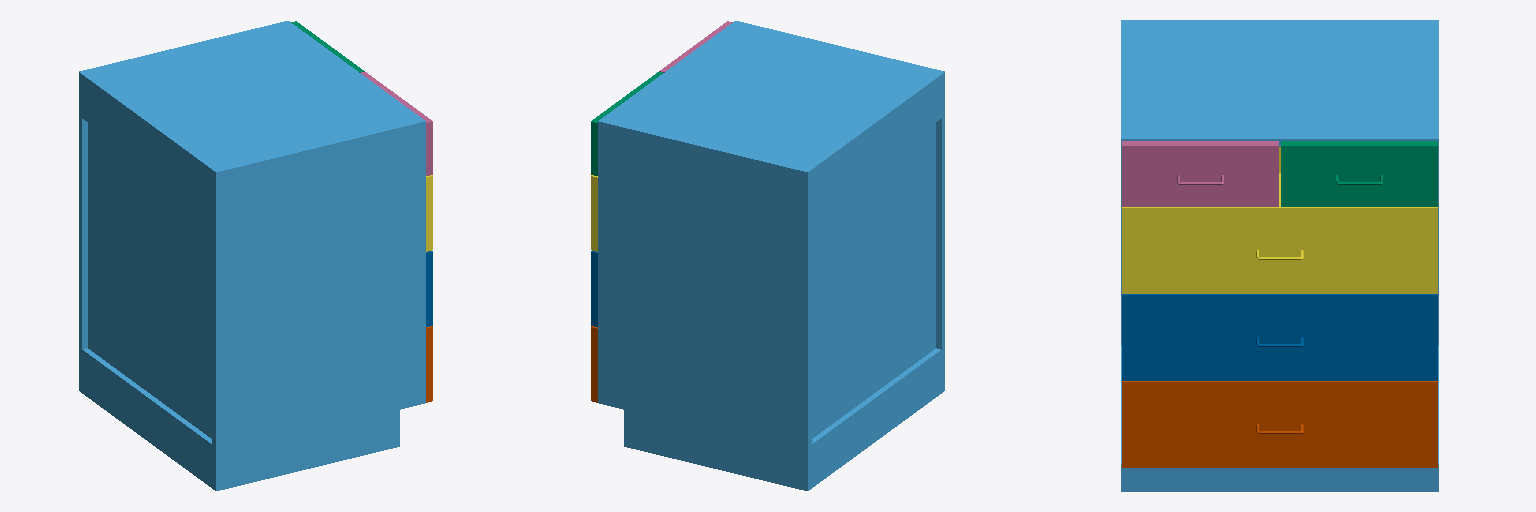
The robot description file, URDF, robot "cabinet_0007_robot":

<!--<?xml version="1.0"?>-->

<robot name="cabinet_0007_robot" >

    <link name="world" />


<!-- cabinet_0007 -->

    <!-- cabinet_0007 -->
    <link name="cabinet_0007">
        <inertial>
            <origin xyz="0 0 0" />
            <mass value="7.8" />
            <inertia ixx="0.0" ixy="0.0" ixz="0.0" iyy="0.0" iyz="0.0" izz="0.0" />
        </inertial>
        <visual>
            <origin xyz="0 0 0" />
            <geometry>
                <mesh filename="none_motion.processed.obj" rpy="0 0 0" />
            </geometry>
        </visual>
        <collision>
            <origin xyz="0 0 0" />
            <geometry>
                <mesh filename="none_motion_vhacd.obj" rpy="0 0 0" />
            </geometry>
        </collision>
    </link>


    <joint name="joint_structure" type="fixed">
        <origin xyz="0.000 0.000 0.000" rpy="0 0 0" />
        <parent link="world" />
        <child link="cabinet_0007" />
    </joint>

    
    <link name="dof_rootd_Aa002_t">
        <inertial>
            <origin xyz="-0.0289855 -0.195652 -0.40942" />
            <mass value="1.4" />
            <inertia ixx="0.0" ixy="0.0" ixz="0.0" iyy="0.0" iyz="0.0" izz="0.0" />
        </inertial>
        <visual>
            <origin xyz="-0.0289855 -0.195652 -0.40942" />
            <geometry>
                <mesh filename="dof_rootd_Aa002_t.processed.obj" rpy="0 0 0" />
            </geometry>
        </visual>
        <collision>
            <origin xyz="-0.0289855 -0.195652 -0.40942" />
            <geometry>
                <mesh filename="dof_rootd_Aa002_t_vhacd.obj" rpy="0 0 0" />
            </geometry>
        </collision>
    </link>

    <joint name="dof_rootd_Aa002_t" type="prismatic">
        <origin xyz="0.0289855 0.195652 0.40942" rpy="0 0 0" />
        <parent link="cabinet_0007" />
        <child link="dof_rootd_Aa002_t" />
        <axis xyz="1.0 0.0 2.22045e-16" />
        <dynamics friction="0" />
        <limit lower="0.0" upper="0.4874083048275276"/>
    </joint>
    
        
    
    <link name="dof_rootd_Aa003_t">
        <inertial>
            <origin xyz="-0.0289855 3.41916e-17 -0.205918" />
            <mass value="1.3" />
            <inertia ixx="0.0" ixy="0.0" ixz="0.0" iyy="0.0" iyz="0.0" izz="0.0" />
        </inertial>
        <visual>
            <origin xyz="-0.0289855 3.41916e-17 -0.205918" />
            <geometry>
                <mesh filename="dof_rootd_Aa003_t.processed.obj" rpy="0 0 0" />
            </geometry>
        </visual>
        <collision>
            <origin xyz="-0.0289855 3.41916e-17 -0.205918" />
            <geometry>
                <mesh filename="dof_rootd_Aa003_t_vhacd.obj" rpy="0 0 0" />
            </geometry>
        </collision>
    </link>

    <joint name="dof_rootd_Aa003_t" type="prismatic">
        <origin xyz="0.0289855 -3.41916e-17 0.205918" rpy="0 0 0" />
        <parent link="cabinet_0007" />
        <child link="dof_rootd_Aa003_t" />
        <axis xyz="1.0 -3.46945e-18 1.11022e-16" />
        <dynamics friction="0" />
        <limit lower="0.0" upper="0.26297229132770267"/>
    </joint>
    
        
    
    <link name="dof_rootd_Aa004_t">
        <inertial>
            <origin xyz="-0.0289855 3.41916e-17 0.030797" />
            <mass value="6.5" />
            <inertia ixx="0.0" ixy="0.0" ixz="0.0" iyy="0.0" iyz="0.0" izz="0.0" />
        </inertial>
        <visual>
            <origin xyz="-0.0289855 3.41916e-17 0.030797" />
            <geometry>
                <mesh filename="dof_rootd_Aa004_t.processed.obj" rpy="0 0 0" />
            </geometry>
        </visual>
        <collision>
            <origin xyz="-0.0289855 3.41916e-17 0.030797" />
            <geometry>
                <mesh filename="dof_rootd_Aa004_t_vhacd.obj" rpy="0 0 0" />
            </geometry>
        </collision>
    </link>

    <joint name="dof_rootd_Aa004_t" type="prismatic">
        <origin xyz="0.0289855 -3.41916e-17 -0.030797" rpy="0 0 0" />
        <parent link="cabinet_0007" />
        <child link="dof_rootd_Aa004_t" />
        <axis xyz="1.0 -3.46945e-18 1.17961e-16" />
        <dynamics friction="0" />
        <limit lower="0.0" upper="0.38359051987409504"/>
    </joint>
    
        
    
    <link name="dof_rootd_Aa005_t">
        <inertial>
            <origin xyz="-0.0289855 6.43608e-18 0.267512" />
            <mass value="0.65" />
            <inertia ixx="0.0" ixy="0.0" ixz="0.0" iyy="0.0" iyz="0.0" izz="0.0" />
        </inertial>
        <visual>
            <origin xyz="-0.0289855 6.43608e-18 0.267512" />
            <geometry>
                <mesh filename="dof_rootd_Aa005_t.processed.obj" rpy="0 0 0" />
            </geometry>
        </visual>
        <collision>
            <origin xyz="-0.0289855 6.43608e-18 0.267512" />
            <geometry>
                <mesh filename="dof_rootd_Aa005_t_vhacd.obj" rpy="0 0 0" />
            </geometry>
        </collision>
    </link>

    <joint name="dof_rootd_Aa005_t" type="prismatic">
        <origin xyz="0.0289855 -6.43608e-18 -0.267512" rpy="0 0 0" />
        <parent link="cabinet_0007" />
        <child link="dof_rootd_Aa005_t" />
        <axis xyz="1.0 2.77556e-17 1.11022e-16" />
        <dynamics friction="0.0" />
        <limit lower="0.0" upper="0.3765409611138598"/>
    </joint>
    
        
    
    <link name="dof_rootd_Aa001_t">
        <inertial>
            <origin xyz="-0.0289855 0.195652 -0.40942" />
            <mass value="0.61" />
            <inertia ixx="0.0" ixy="0.0" ixz="0.0" iyy="0.0" iyz="0.0" izz="0.0" />
        </inertial>
        <visual>
            <origin xyz="-0.0289855 0.195652 -0.40942" />
            <geometry>
                <mesh filename="dof_rootd_Aa001_t.processed.obj" rpy="0 0 0" />
            </geometry>
        </visual>
        <collision>
            <origin xyz="-0.0289855 0.195652 -0.40942" />
            <geometry>
                <mesh filename="dof_rootd_Aa001_t_vhacd.obj" rpy="0 0 0" />
            </geometry>
        </collision>
    </link>

    <joint name="dof_rootd_Aa001_t" type="prismatic">
        <origin xyz="0.0289855 -0.195652 0.40942" rpy="0 0 0" />
        <parent link="cabinet_0007" />
        <child link="dof_rootd_Aa001_t" />
        <axis xyz="1.0 0.0 1.66533e-16" />
        <dynamics friction="0" />
        <limit lower="0.0" upper="0.2810831471476685"/>
    </joint>
    
        

</robot>
        

--- Render facts (derived) ---
3 views of the same robot in one strip: view 1: azimuth 30°, elevation 25°; view 2: azimuth 150°, elevation 25°; view 3: azimuth 270°, elevation 25° (orthographic).
Robot: cabinet_0007_robot — 7 links, 6 joints (5 prismatic, 1 fixed); root link world; default pose: every joint at zero.
Visible links, largest first — view 1: cabinet_0007, dof_rootd_Aa001_t, dof_rootd_Aa003_t, dof_rootd_Aa005_t, dof_rootd_Aa004_t; view 2: cabinet_0007, dof_rootd_Aa002_t, dof_rootd_Aa003_t, dof_rootd_Aa005_t, dof_rootd_Aa004_t; view 3: cabinet_0007, dof_rootd_Aa003_t, dof_rootd_Aa004_t, dof_rootd_Aa005_t, dof_rootd_Aa002_t, dof_rootd_Aa001_t.
Link boxes in pixels (box(x1,y1,x2,y2)): cabinet_0007: box(79, 21, 425, 490); dof_rootd_Aa001_t: box(361, 72, 432, 175); dof_rootd_Aa003_t: box(426, 175, 432, 251); dof_rootd_Aa005_t: box(426, 326, 432, 402); dof_rootd_Aa004_t: box(426, 251, 432, 326); cabinet_0007: box(598, 21, 944, 490); dof_rootd_Aa002_t: box(591, 72, 662, 175); dof_rootd_Aa003_t: box(591, 175, 597, 251); dof_rootd_Aa005_t: box(591, 326, 597, 402); dof_rootd_Aa004_t: box(591, 251, 597, 326); cabinet_0007: box(1121, 20, 1438, 491); dof_rootd_Aa003_t: box(1122, 147, 1437, 293); dof_rootd_Aa004_t: box(1122, 294, 1437, 380); dof_rootd_Aa005_t: box(1122, 381, 1437, 467); dof_rootd_Aa002_t: box(1281, 141, 1437, 206); dof_rootd_Aa001_t: box(1122, 141, 1278, 206).
Bounding box of the posed robot: 0.7609 × 0.7826 × 1 m (x, y, z).
Meshes: 6 distinct files referenced, 6 mesh visuals loaded (6 OBJ).